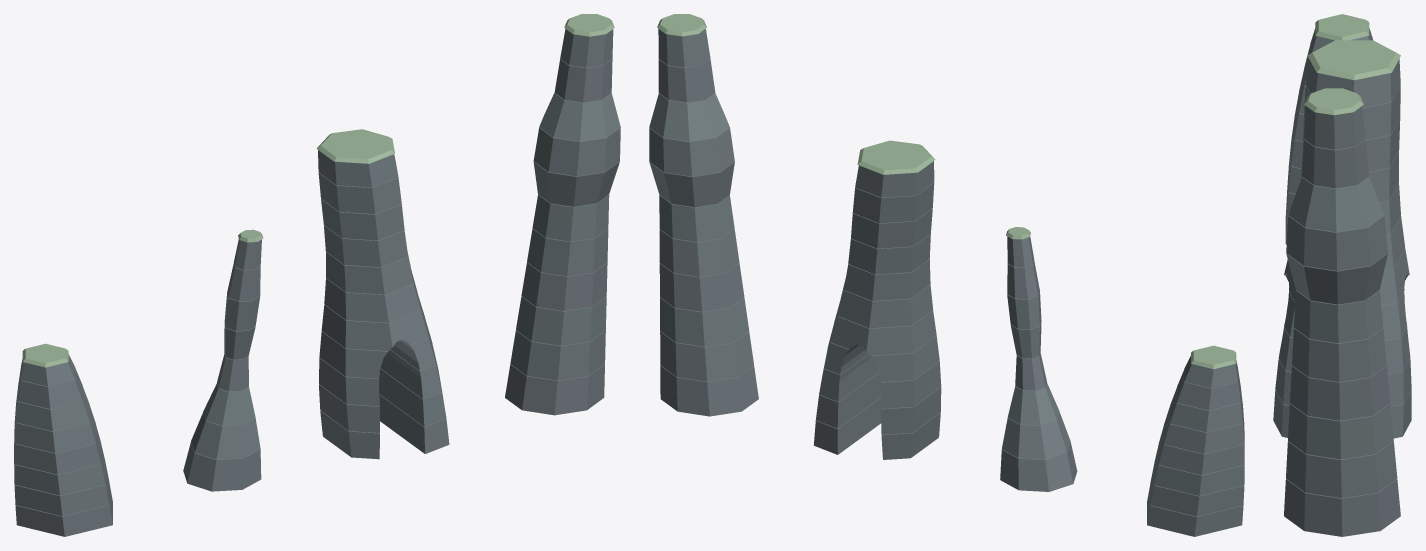
File: sea-stack-set.glb
3 views of the same model, side by side, from view 1: azimuth 30°, elevation 25°; view 2: azimuth 150°, elevation 25°; view 3: azimuth 270°, elevation 25° (orthographic). The views are drawn at different scales.
Visible parts, largest first — view 1: stack_40_tapered_block_courses, stack_32_tapered_block_courses, stack_18_tapered_block_courses, stack_26_tapered_block_courses, stack_32_moss_cap, stack_40_moss_cap, stack_18_moss_cap; view 2: stack_40_tapered_block_courses, stack_32_tapered_block_courses, stack_18_tapered_block_courses, stack_26_tapered_block_courses, stack_32_moss_cap, stack_40_moss_cap, stack_18_moss_cap; view 3: stack_40_tapered_block_courses, stack_32_tapered_block_courses, stack_32_moss_cap, stack_18_tapered_block_courses, stack_40_moss_cap, stack_18_moss_cap.
Boxes of the visible parts, x1,y1,x2,y2 form: stack_40_tapered_block_courses: (505,29,620,415); stack_32_tapered_block_courses: (318,150,449,459); stack_18_tapered_block_courses: (14,354,112,536); stack_26_tapered_block_courses: (183,239,261,491); stack_32_moss_cap: (316,129,394,163); stack_40_moss_cap: (564,14,614,36); stack_18_moss_cap: (22,343,68,367); stack_40_tapered_block_courses: (649,29,758,416); stack_32_tapered_block_courses: (813,161,941,459); stack_18_tapered_block_courses: (1147,356,1244,536); stack_26_tapered_block_courses: (1000,236,1077,491); stack_32_moss_cap: (857,140,935,174); stack_40_moss_cap: (657,14,706,36); stack_18_moss_cap: (1191,345,1236,369); stack_40_tapered_block_courses: (1284,106,1400,536); stack_32_tapered_block_courses: (1273,58,1411,438); stack_32_moss_cap: (1307,40,1400,80); stack_18_tapered_block_courses: (1285,28,1372,244); stack_40_moss_cap: (1304,88,1363,115); stack_18_moss_cap: (1315,14,1369,40).
Size of the model in its own units: 68.53 by 40 by 11.64.
